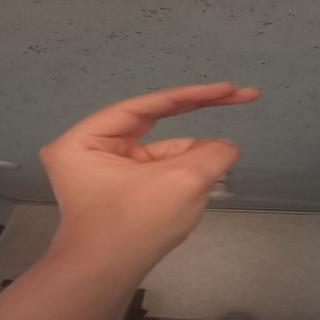ZAY: (13, 65, 289, 225)
